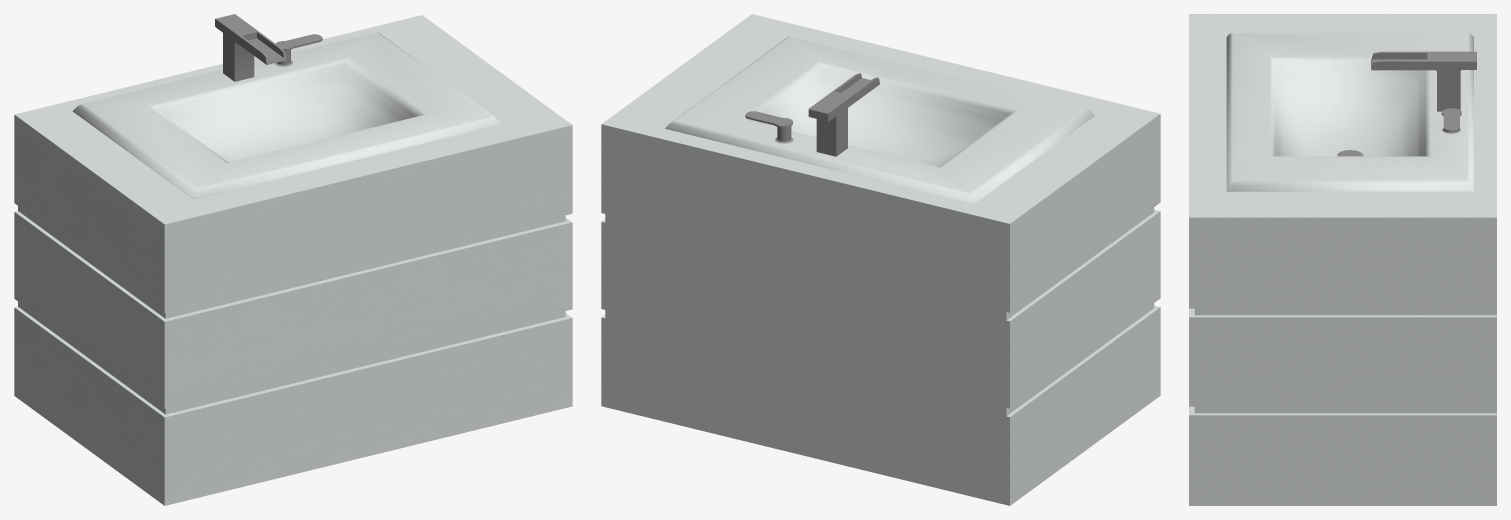
File: Sink03.FBX
3 views of the same model, side by side, from view 1: azimuth 30°, elevation 25°; view 2: azimuth 150°, elevation 25°; view 3: azimuth 270°, elevation 25° (orthographic). The views are drawn at different scales.
Visible parts, largest first — view 1: Sink03; view 2: Sink03; view 3: Sink03.
Boxes of the visible parts, x1=… form: Sink03: x1=14, y1=14, x2=572, y2=505; Sink03: x1=601, y1=14, x2=1160, y2=505; Sink03: x1=1189, y1=14, x2=1496, y2=505.
Size of the model in its own units: 47.58 by 37.66 by 30.38.
